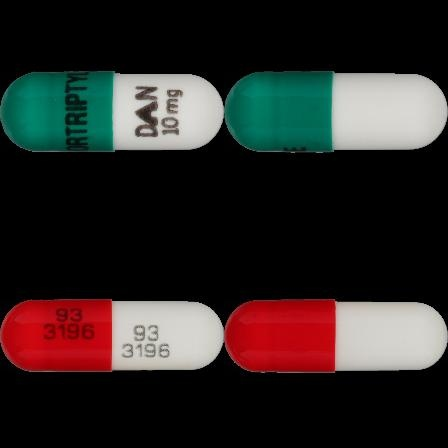55289-586: (0, 0, 224, 224)
